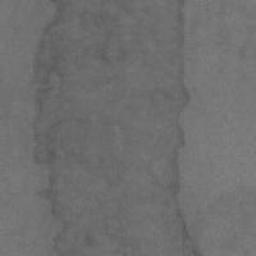Water spot: (31, 0, 202, 256)
